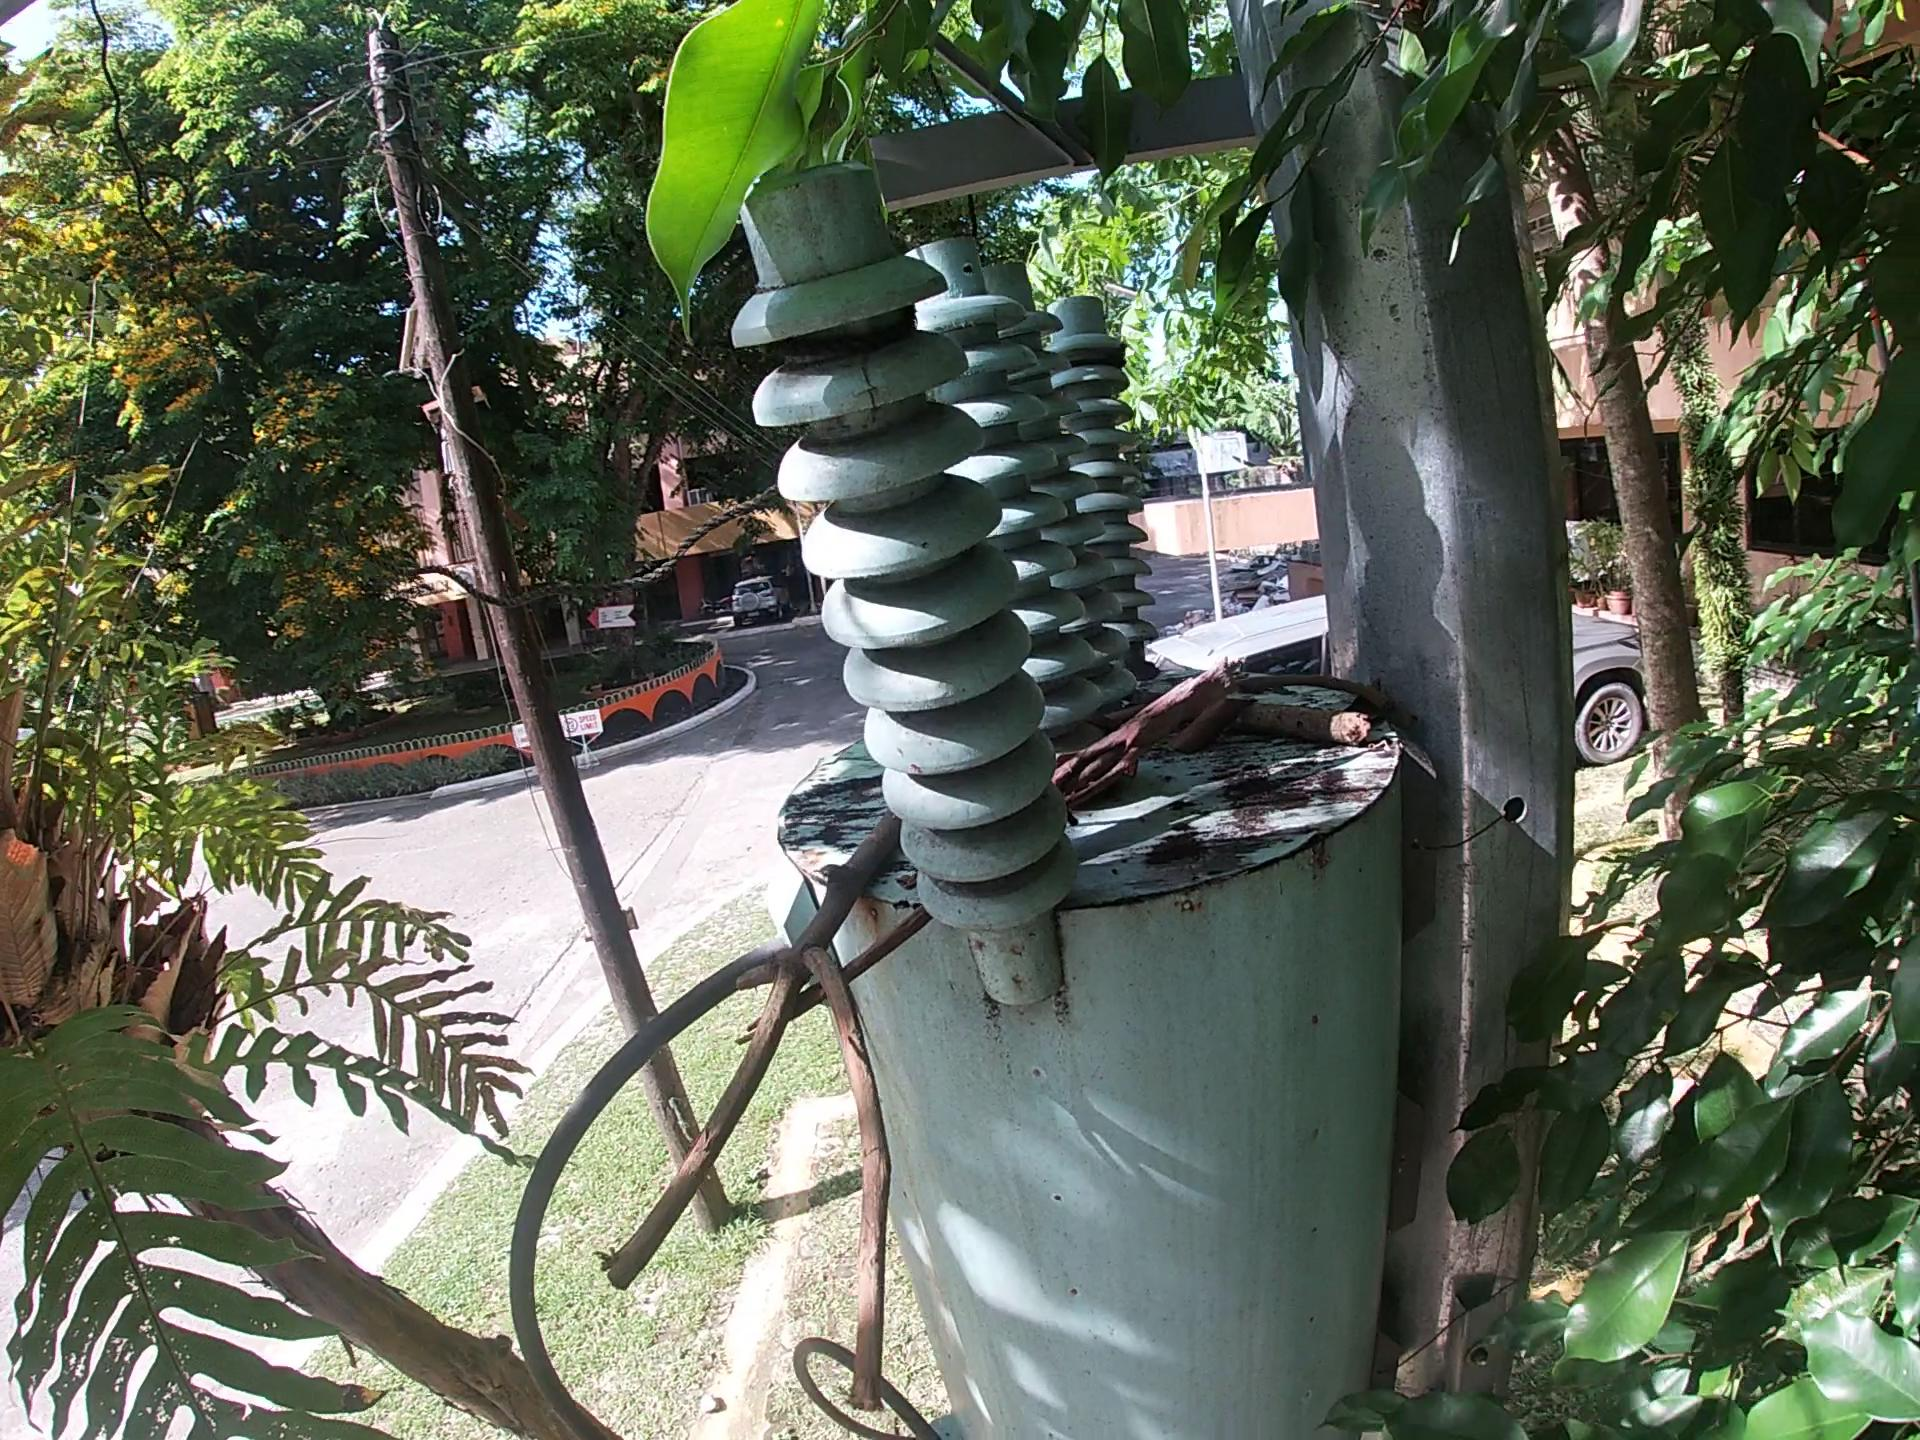leaf: (1167, 690, 1256, 756), (1339, 678, 1385, 722)
tree branch: (591, 802, 937, 1423), (735, 905, 934, 1053), (1045, 663, 1228, 812), (1119, 687, 1383, 749), (1215, 667, 1406, 712)
